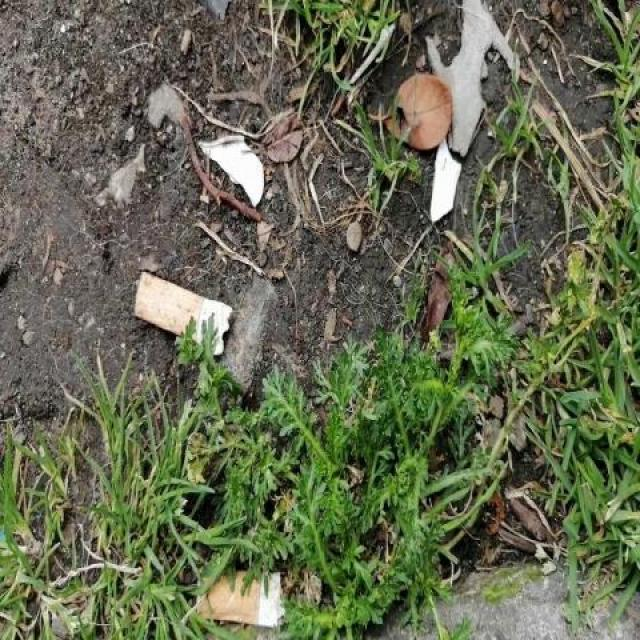non-organic waste: (130, 267, 235, 360), (192, 561, 289, 636)
